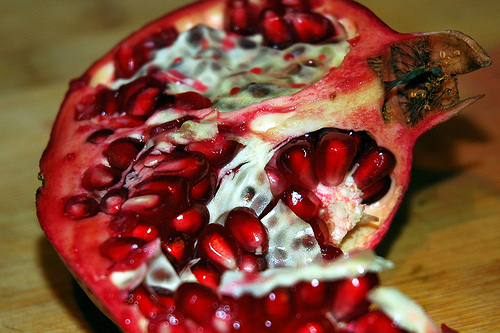pomogranate: (36, 1, 490, 332)
